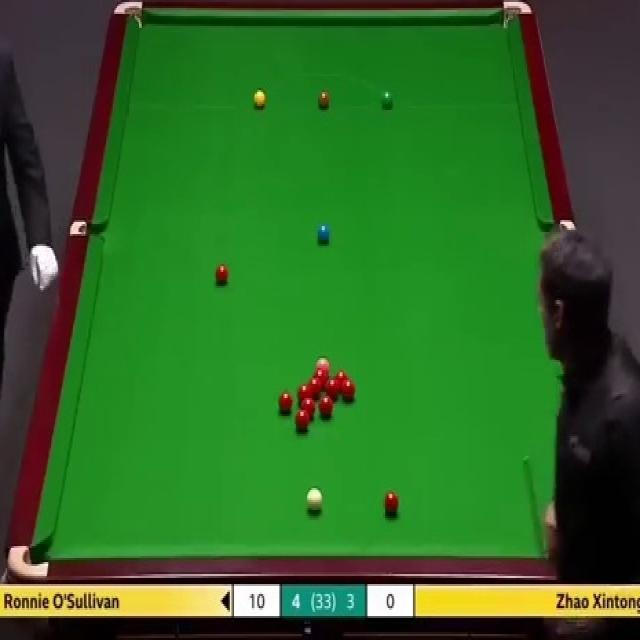pocket: (7, 546, 50, 579), (109, 0, 145, 34), (498, 0, 533, 32), (67, 220, 105, 235), (537, 220, 562, 235)
